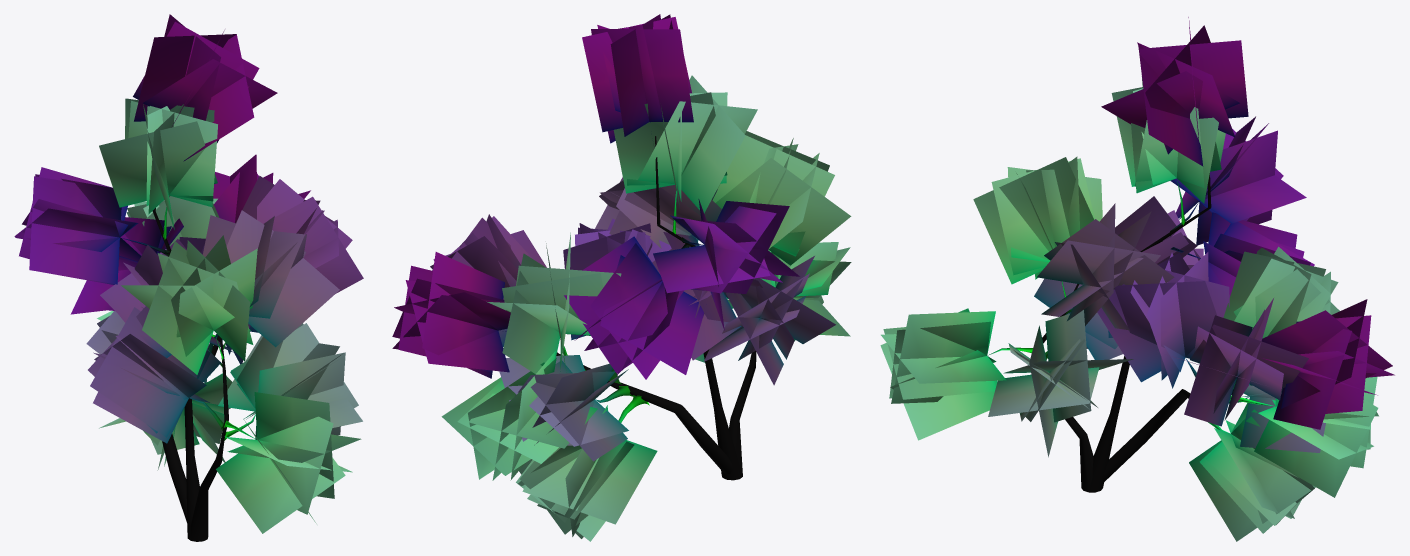
Rendered from URP_P6_Tree_7_LOD_2.fbx.
The picture shows the model from 3 angles, left to right: view 1: azimuth 30°, elevation 25°; view 2: azimuth 150°, elevation 25°; view 3: azimuth 270°, elevation 25°; orthographic projection. The views are drawn at different scales.
Visible parts, largest first — view 1: Tree_7_LOD_2; view 2: Tree_7_LOD_2; view 3: Tree_7_LOD_2.
Boxes of the visible parts, x1,y1,x2,y2 form: Tree_7_LOD_2: (14, 14, 363, 541); Tree_7_LOD_2: (392, 14, 851, 541); Tree_7_LOD_2: (880, 17, 1394, 541).
Bounding box in the file's own units: 617 × 844 × 804.
